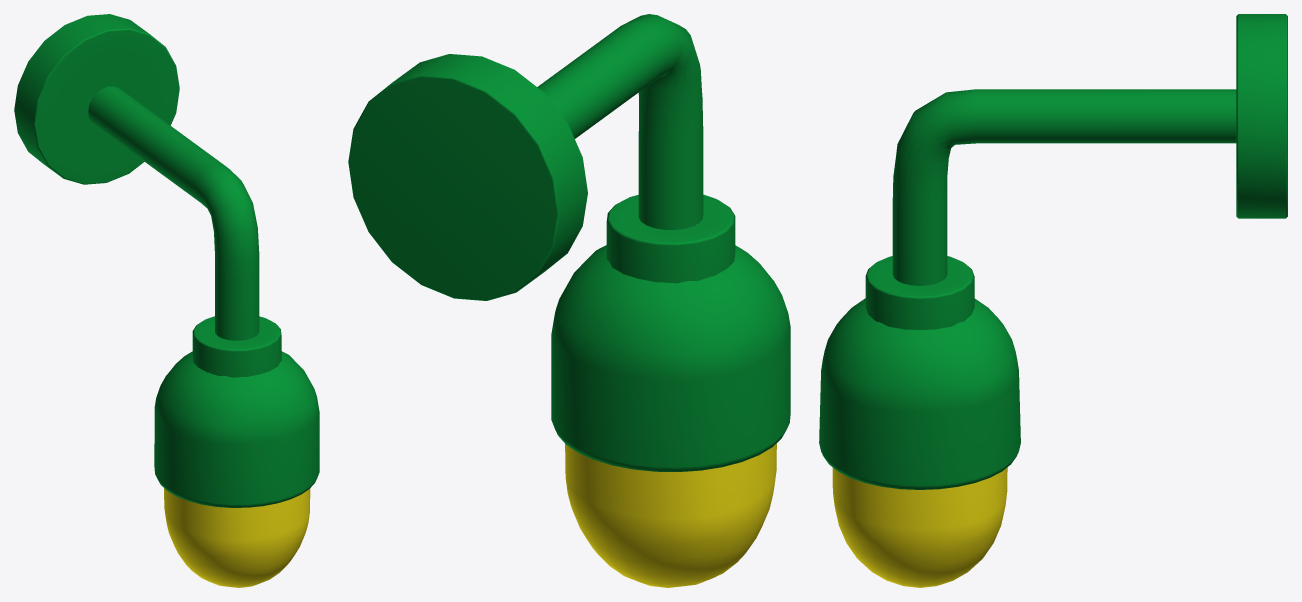
Rendered from City_4_Wall_Lamp_1.glb.
3 renders of one model, left to right at view 1: azimuth 30°, elevation 25°; view 2: azimuth 150°, elevation 25°; view 3: azimuth 270°, elevation 25°, orthographic. The views are drawn at different scales.
Parts seen in each view (by area): view 1: City_4_Wall_Lamp_1; view 2: City_4_Wall_Lamp_1; view 3: City_4_Wall_Lamp_1.
Part boxes in pixels (x1=…): City_4_Wall_Lamp_1: x1=14, y1=14, x2=319, y2=587; City_4_Wall_Lamp_1: x1=348, y1=14, x2=790, y2=587; City_4_Wall_Lamp_1: x1=819, y1=14, x2=1287, y2=587.
Bounding box in the file's own units: 0.2756 × 0.8214 × 0.6264.
1 material, 1 textured.
